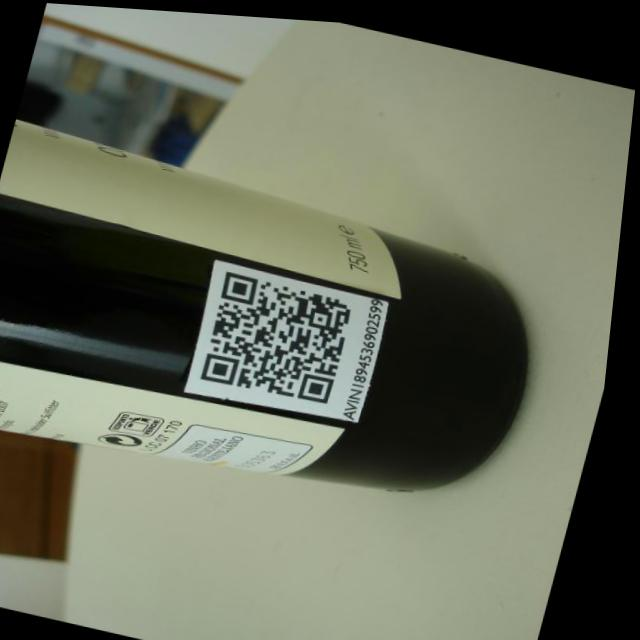qrcode: (206, 268, 363, 403)
